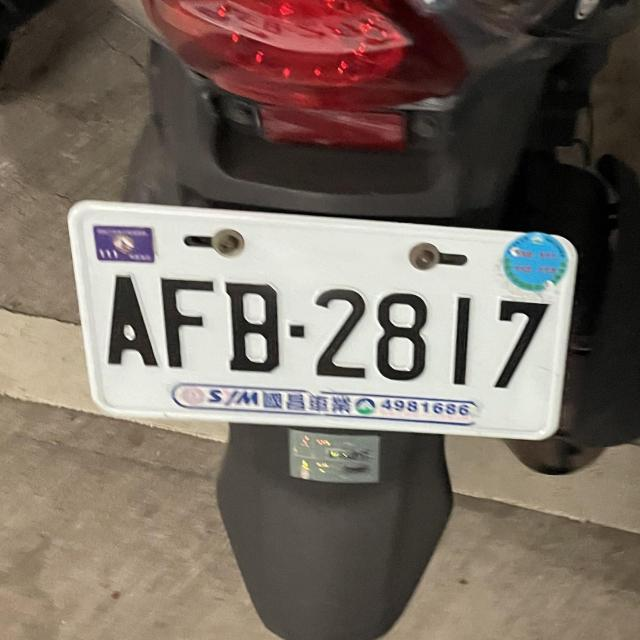W: (72, 193, 558, 450)
